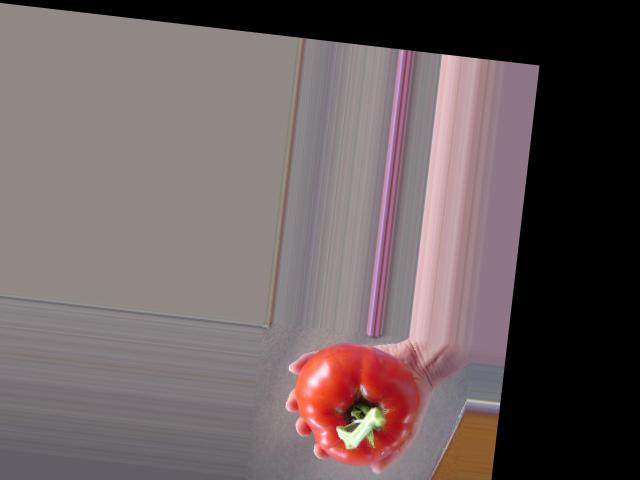tomato: (287, 337, 424, 472)
